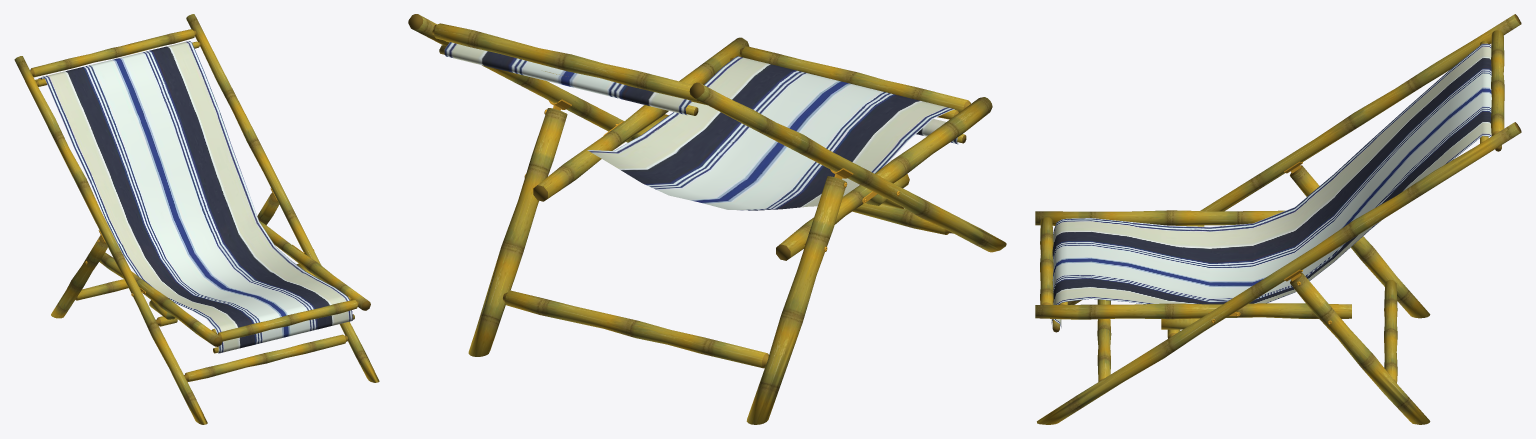
The model's file is beach_chair.glb.
3 renders of one model, left to right at view 1: azimuth 30°, elevation 25°; view 2: azimuth 150°, elevation 25°; view 3: azimuth 270°, elevation 25°, orthographic. The views are drawn at different scales.
Parts seen in each view (by area): view 1: Cylinder.010_1, Cylinder.010_2, Cylinder.010_5, Cylinder.010_0; view 2: Cylinder.010_1, Cylinder.010_0, Cylinder.010_5, Cylinder.010_2; view 3: Cylinder.010_1, Cylinder.010_2, Cylinder.010_0, Cylinder.010_5.
Part boxes in pixels (x1,y1,x2,y2): Cylinder.010_1: (38,41,352,353); Cylinder.010_2: (14,14,379,424); Cylinder.010_5: (30,29,358,381); Cylinder.010_0: (35,78,370,353); Cylinder.010_1: (444,42,958,210); Cylinder.010_0: (439,37,992,424); Cylinder.010_5: (432,23,970,368); Cylinder.010_2: (408,14,1006,252); Cylinder.010_1: (1051,43,1491,327); Cylinder.010_2: (1037,14,1521,424); Cylinder.010_0: (1035,145,1501,424); Cylinder.010_5: (1040,30,1504,383).
Bounding box in the file's own units: 0.7824 × 0.95 × 1.4.
6 materials, 5 textured.
